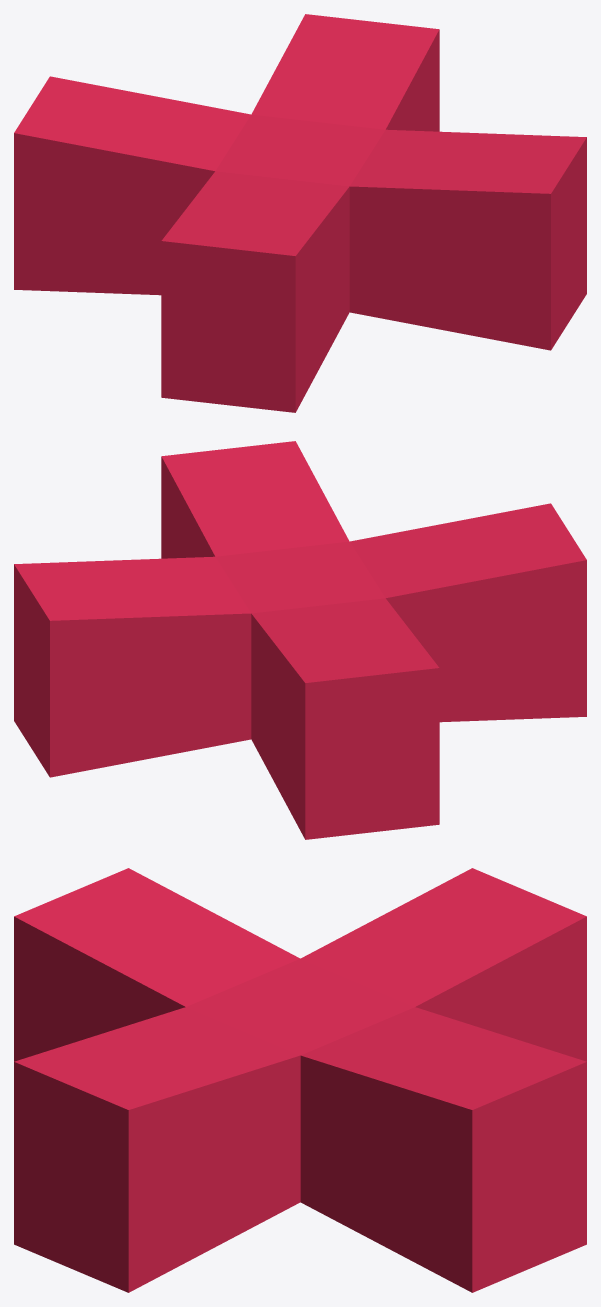
The model's file is Remove.fbx.
3 views of the same model, one above another, from view 1: azimuth 30°, elevation 25°; view 2: azimuth 150°, elevation 25°; view 3: azimuth 270°, elevation 25° (orthographic). The views are drawn at different scales.
Parts seen in each view (by area): view 1: Remove; view 2: Remove; view 3: Remove.
Boxes of the visible parts, left/top/right/bottom form: Remove: left=14, top=14, right=586, bottom=412; Remove: left=14, top=441, right=586, bottom=839; Remove: left=14, top=868, right=586, bottom=1292.
Size of the model in its own units: 247 by 87.11 by 247.
